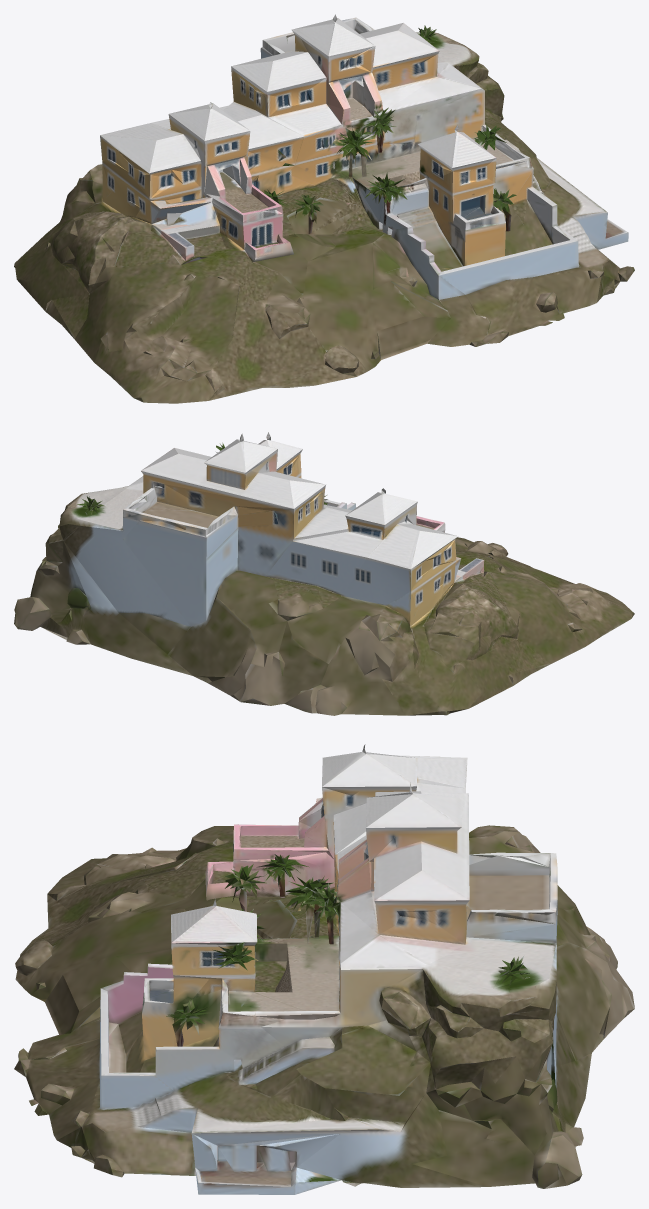
File: bermuda-hillside-cluster.glb
3 views of the same model, one above another, from view 1: azimuth 30°, elevation 25°; view 2: azimuth 150°, elevation 25°; view 3: azimuth 270°, elevation 25° (orthographic). The views are drawn at different scales.
Visible parts, largest first — view 1: output_unwrapped; view 2: output_unwrapped; view 3: output_unwrapped.
Part boxes in pixels (x1,y1,x2,y2): output_unwrapped: (14,14,634,403); output_unwrapped: (14,432,634,715); output_unwrapped: (14,744,634,1194).
Size of the model in its own units: 1.9 by 0.7481 by 1.5.
Materials: 1 (1 with a texture image).
